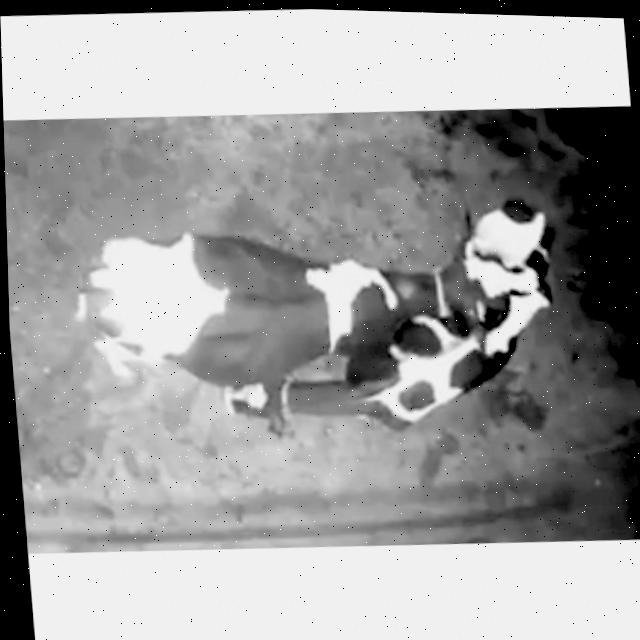propping: (396, 229, 564, 335)
